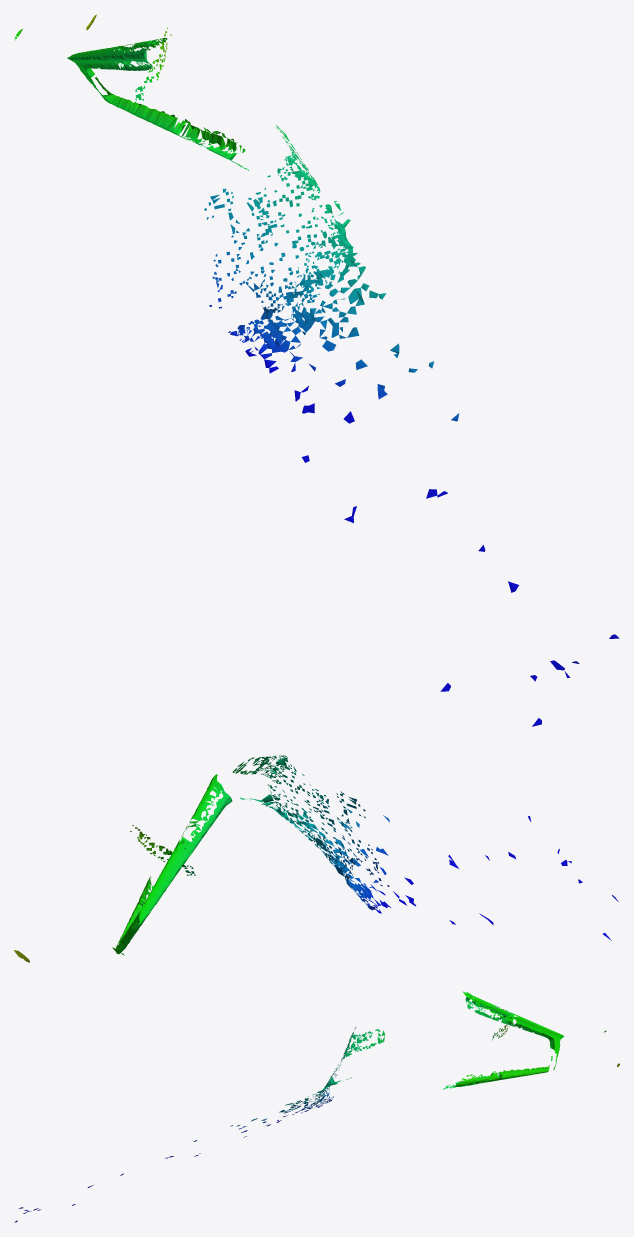
3 views of the same model, one above another, from view 1: azimuth 30°, elevation 25°; view 2: azimuth 150°, elevation 25°; view 3: azimuth 270°, elevation 25° (orthographic). The views are drawn at different scales.
Visible parts, largest first — view 1: geometry_0; view 2: geometry_0; view 3: geometry_0.
Boxes of the visible parts, bbox=[...] form: geometry_0: bbox=[14, 14, 619, 726]; geometry_0: bbox=[14, 755, 618, 962]; geometry_0: bbox=[14, 991, 619, 1222].
Size of the model in its own units: 0.2452 by 0.6769 by 1.58.
